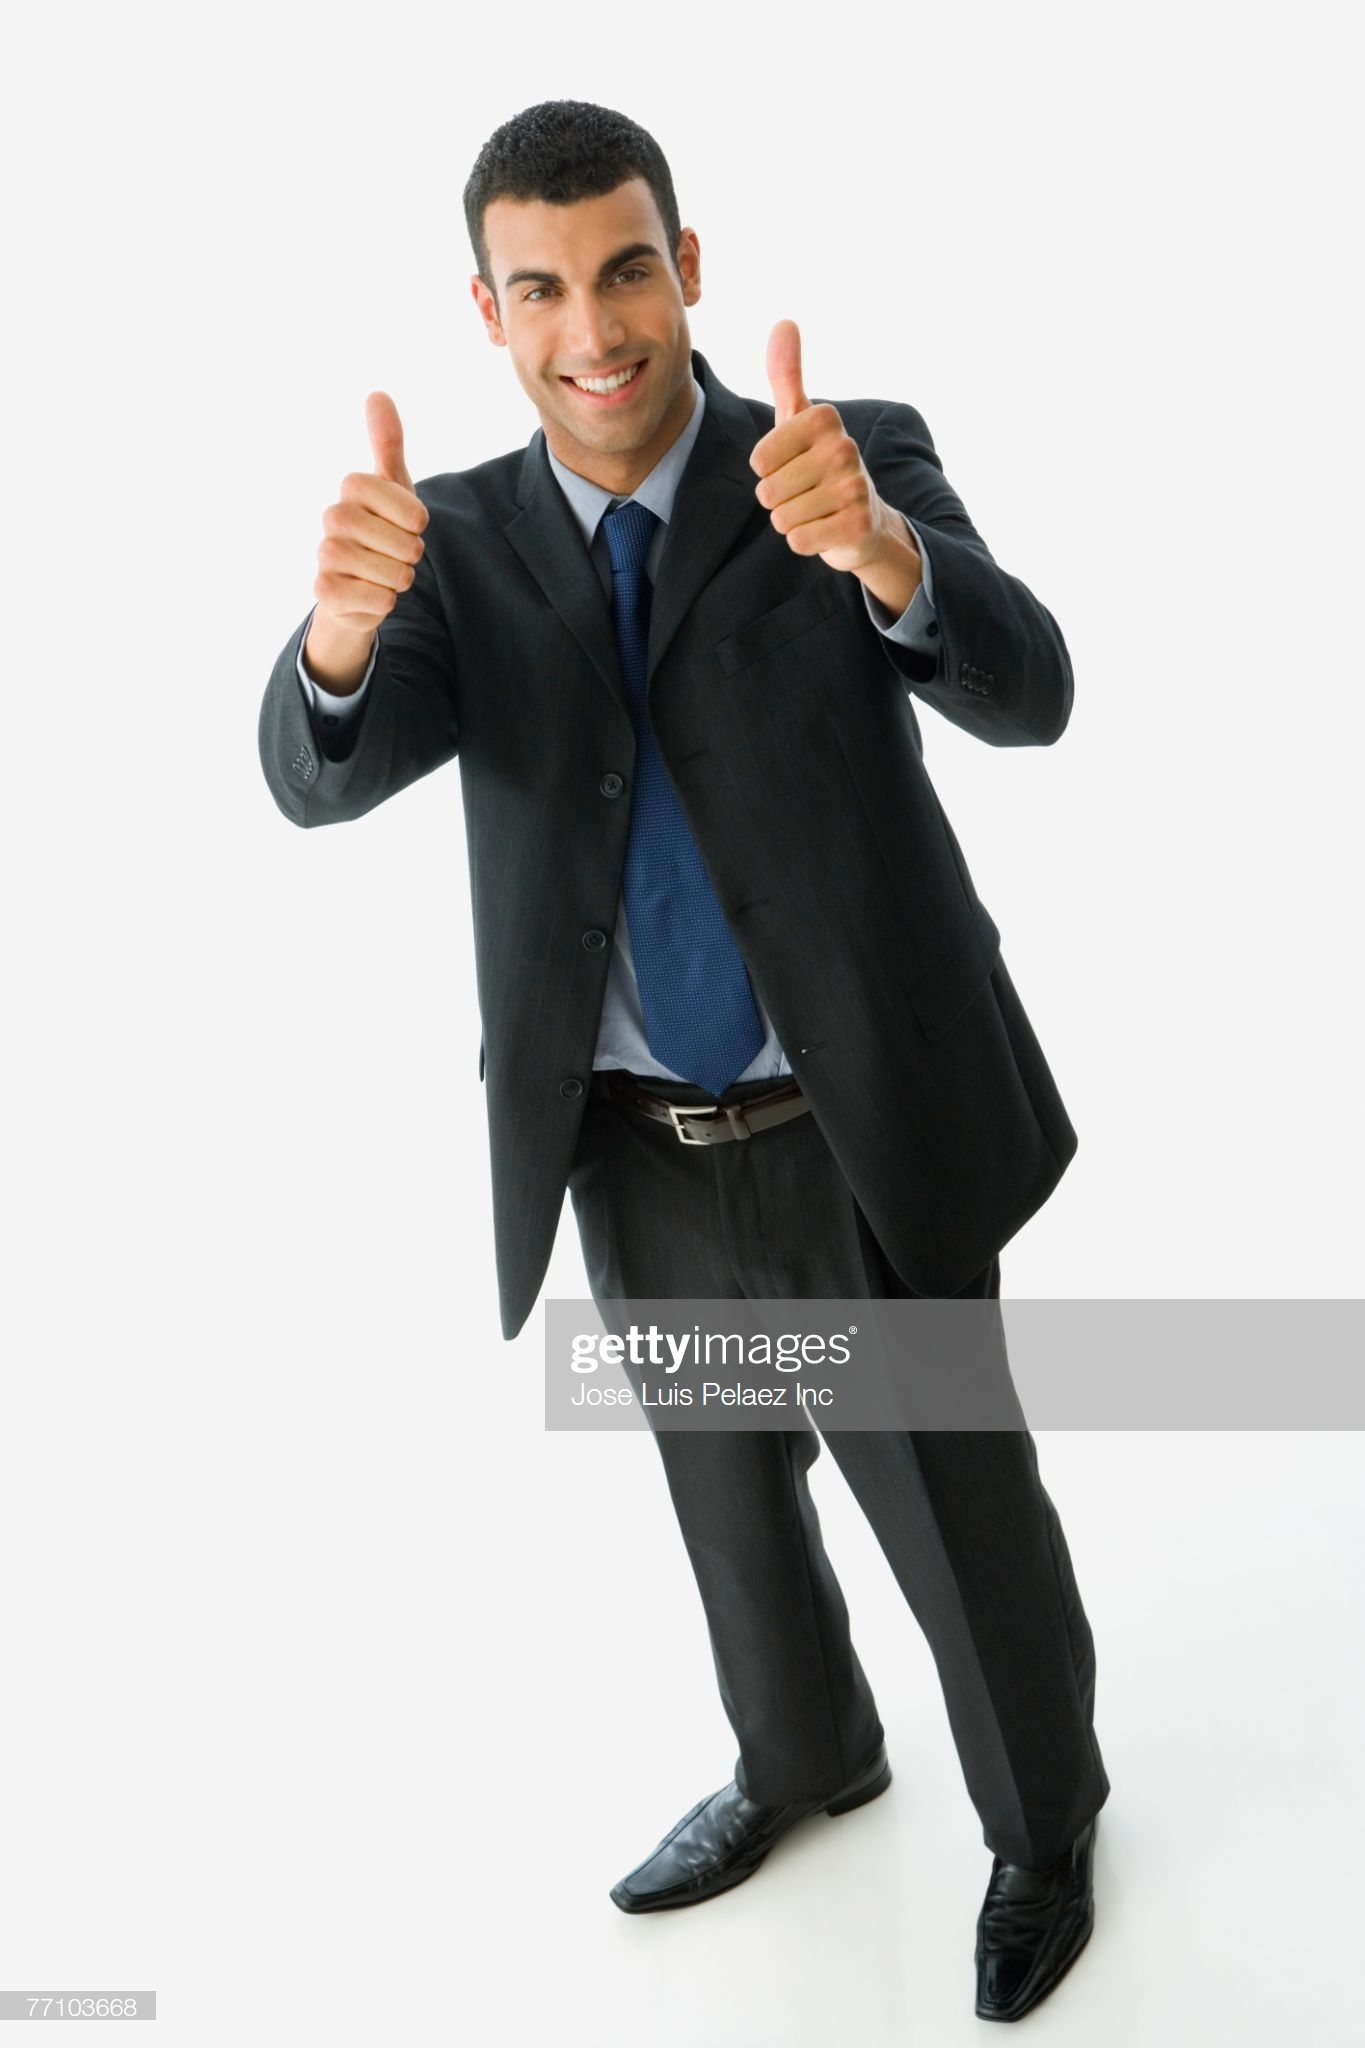thumbsup: (746, 320, 874, 557), (312, 390, 431, 617)
